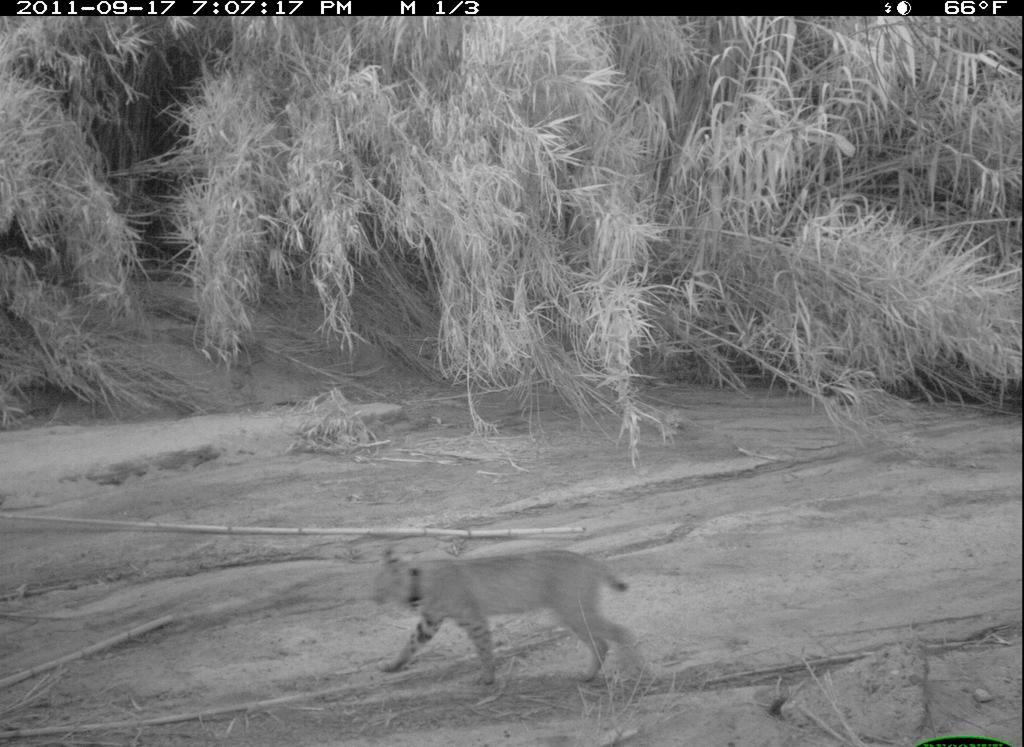bobcat: (373, 542, 653, 689)
